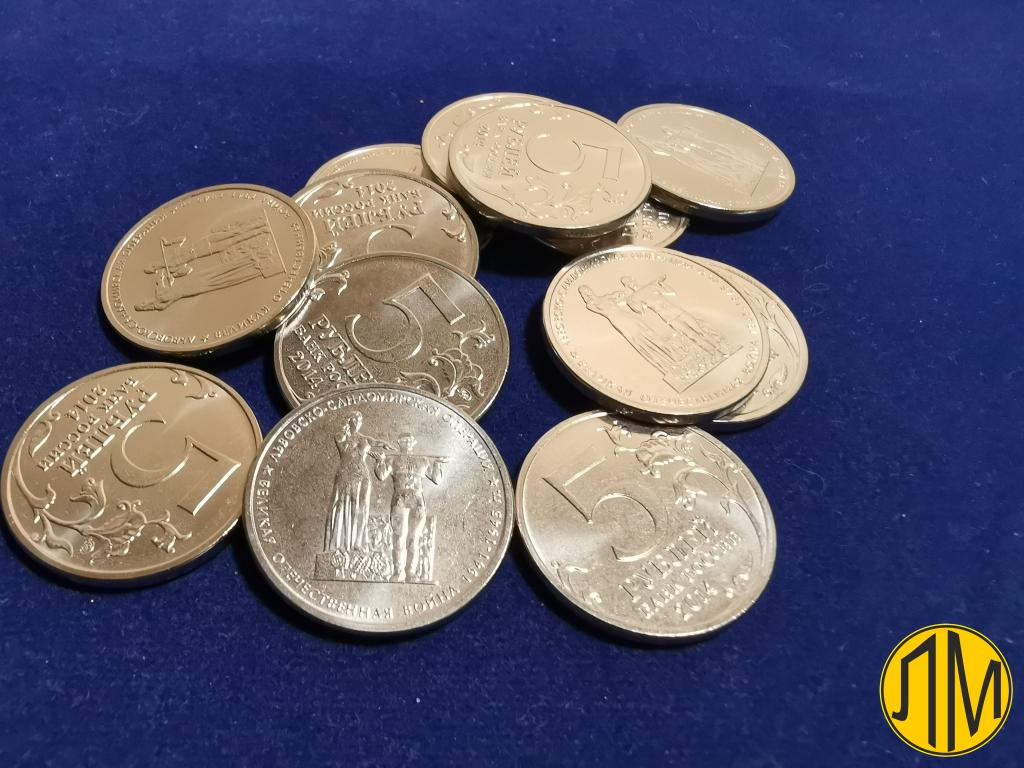coin: (244, 386, 513, 630), (512, 412, 781, 644), (1, 362, 260, 583), (272, 249, 511, 421), (542, 244, 771, 422), (96, 180, 318, 356), (449, 100, 650, 231), (292, 165, 480, 281), (684, 256, 811, 425), (619, 100, 798, 218), (418, 89, 553, 187), (540, 205, 693, 253), (304, 141, 435, 188)
